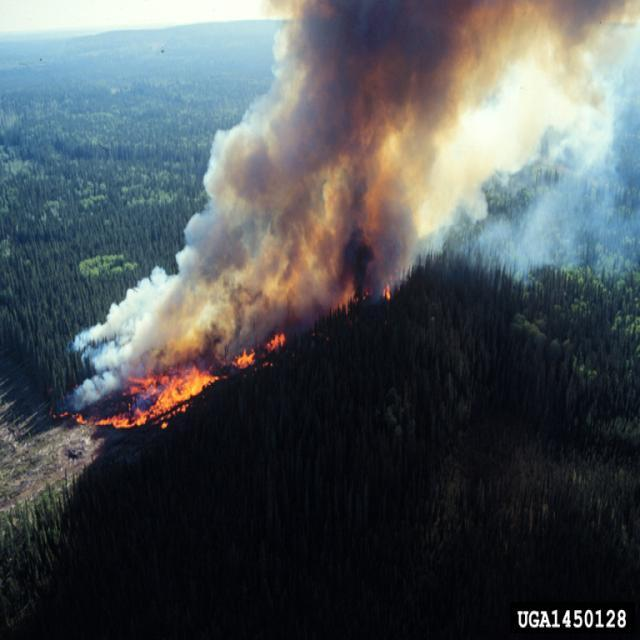Fire: (95, 333, 286, 429)
Smoke: (73, 0, 639, 412)
